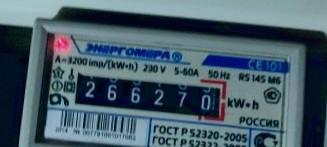0: (198, 91, 211, 112)
2: (82, 78, 98, 100), (151, 87, 165, 108)
6: (104, 82, 118, 103), (128, 84, 142, 104)
7: (174, 89, 188, 109)
screen: (60, 59, 238, 131)
